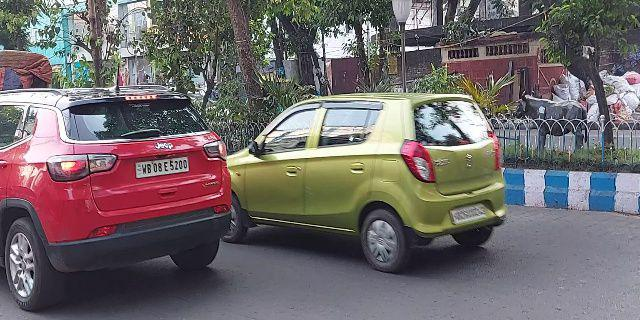Car: (226, 90, 515, 276), (1, 80, 233, 311)
